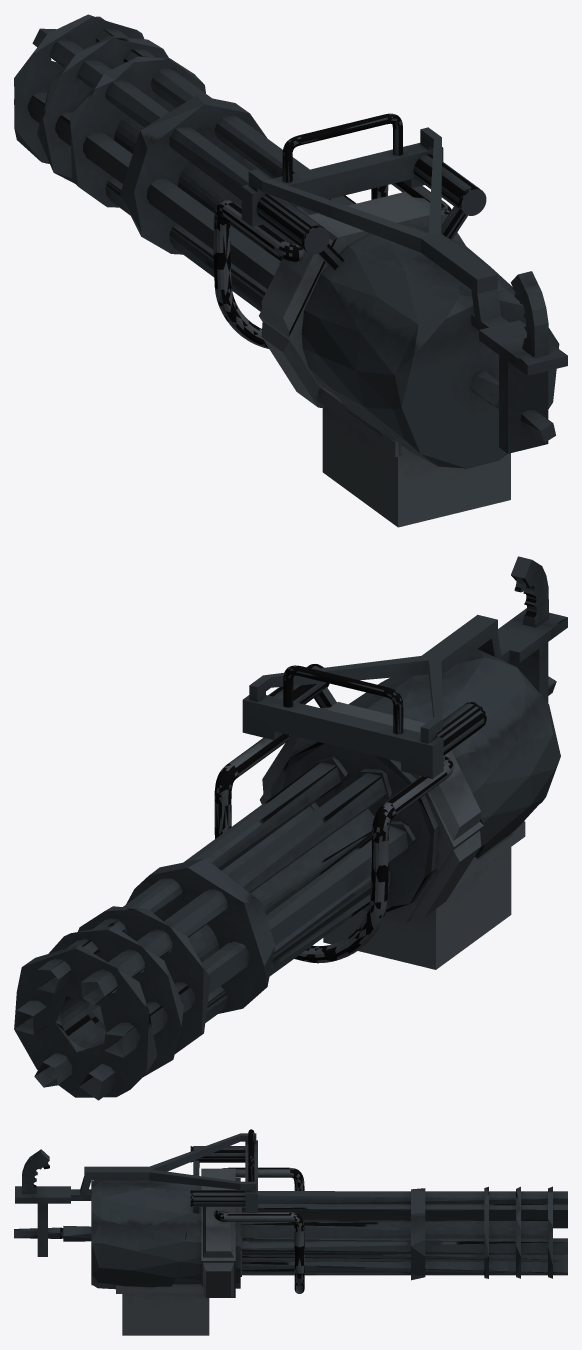
The model's file is energy_minigun.glb.
The picture shows the model from 3 angles, top to bottom: view 1: azimuth 30°, elevation 25°; view 2: azimuth 150°, elevation 25°; view 3: azimuth 270°, elevation 25°; orthographic projection. The views are drawn at different scales.
Parts seen in each view (by area): view 1: energy_minigun, InsertedAmmo; view 2: energy_minigun, InsertedAmmo; view 3: energy_minigun, InsertedAmmo.
Boxes of the visible parts, x1,y1,x2,y2 form: energy_minigun: (14,14,567,468); InsertedAmmo: (322,406,510,527); energy_minigun: (14,556,567,1100); InsertedAmmo: (323,847,511,969); energy_minigun: (14,1129,567,1297); InsertedAmmo: (122,1294,209,1335).
Bounding box in the file's own units: 0.333 × 0.4927 × 1.4.
1 material, 1 textured.
